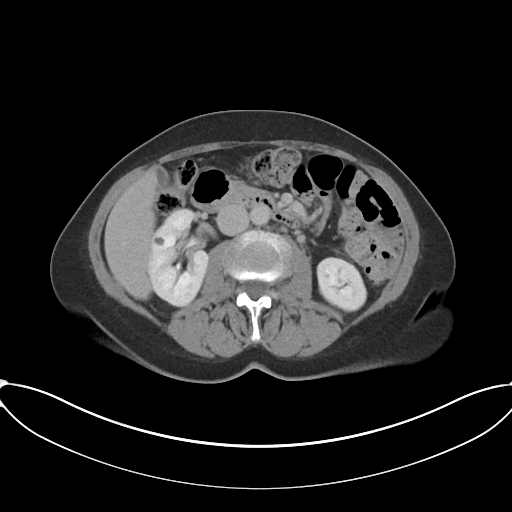Lesion: (144, 269, 153, 279)
